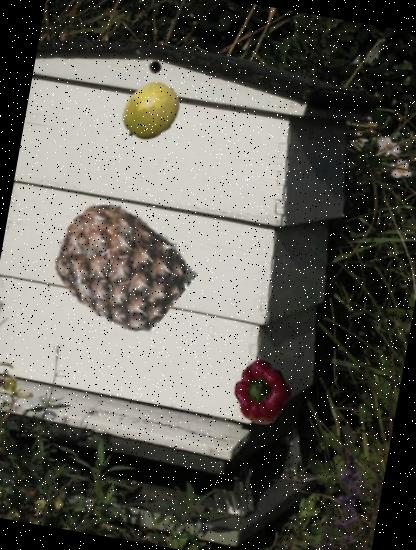Maracuja: (113, 74, 188, 148)
Pepper: (224, 356, 298, 430)
Pineapple: (43, 190, 195, 342)
